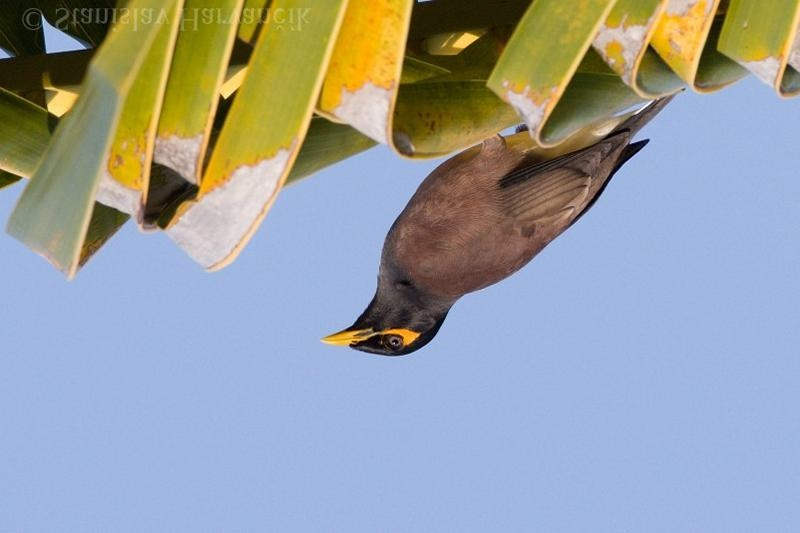myna: (306, 82, 657, 369)
